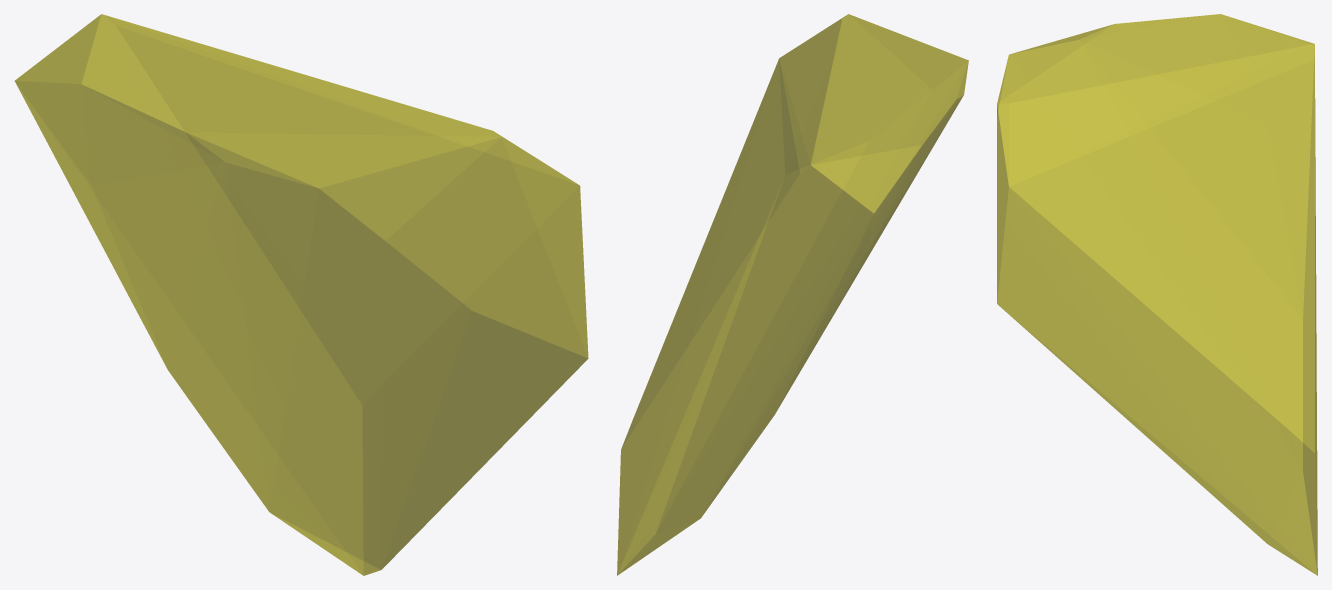
3 views of the same model, side by side, from view 1: azimuth 30°, elevation 25°; view 2: azimuth 150°, elevation 25°; view 3: azimuth 270°, elevation 25° (orthographic). The views are drawn at different scales.
Visible parts, largest first — view 1: Shape_IndexedFaceSet.027_Shape_IndexedFaceSet.4373; view 2: Shape_IndexedFaceSet.027_Shape_IndexedFaceSet.4373; view 3: Shape_IndexedFaceSet.027_Shape_IndexedFaceSet.4373.
Part boxes in pixels (left/top/right/bottom): Shape_IndexedFaceSet.027_Shape_IndexedFaceSet.4373: left=14, top=14, right=588, bottom=575; Shape_IndexedFaceSet.027_Shape_IndexedFaceSet.4373: left=617, top=14, right=968, bottom=575; Shape_IndexedFaceSet.027_Shape_IndexedFaceSet.4373: left=997, top=14, right=1317, bottom=575.
Size of the model in its own units: 0.1548 by 0.2645 by 0.1742.
